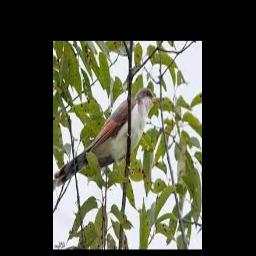Cuckoo: (55, 87, 162, 188)
